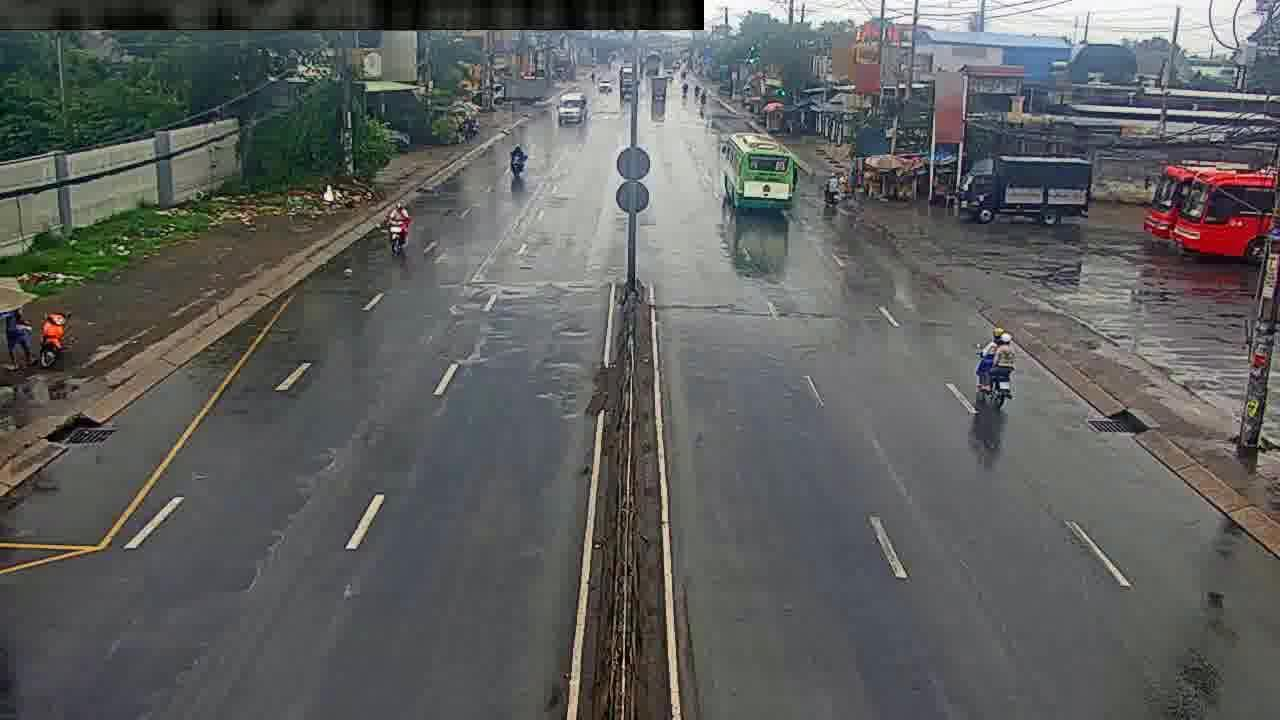14: (720, 134, 799, 212)
container: (557, 93, 588, 129)
motorbike: (978, 327, 1015, 418), (36, 304, 71, 369), (384, 196, 408, 254), (825, 170, 841, 216), (509, 140, 525, 185)
